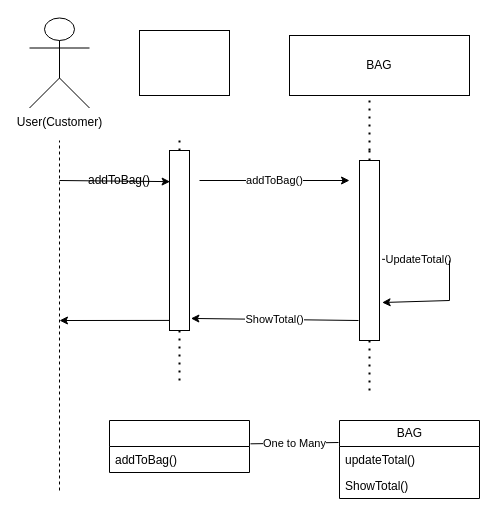
This 497x518 diagram has some shape labels left out. The shapes that lost their labels are listed below. From the top down, each one's box as (x1, y1, x2, y2) in pixels, then its label:
(138, 30, 230, 96): GUI
(108, 420, 250, 472): USERS
